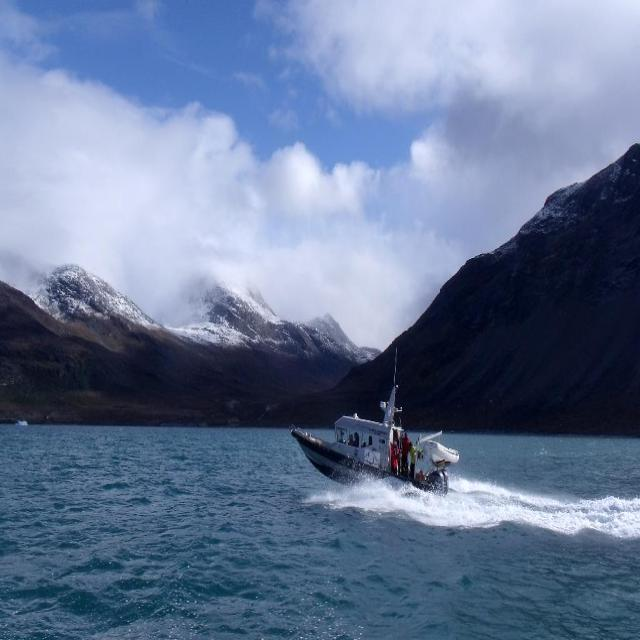Boat: (296, 383, 485, 494)
